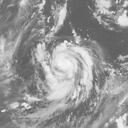cyclone: (35, 40, 96, 101)
